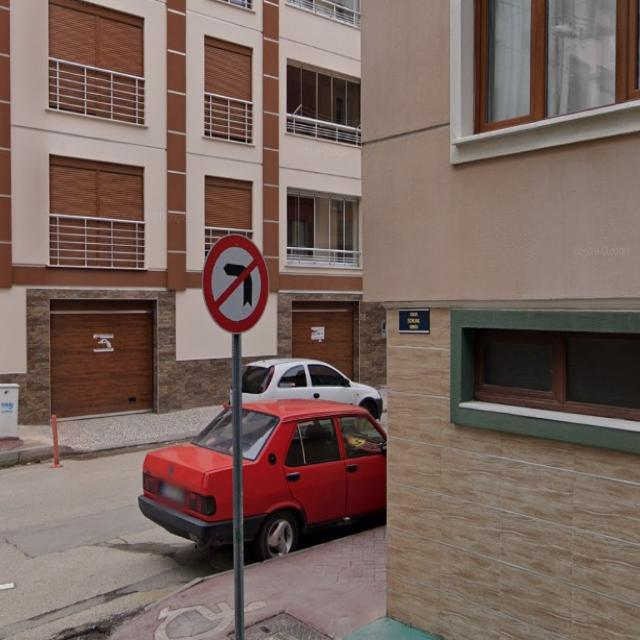soladonulmez: (202, 234, 268, 332)
